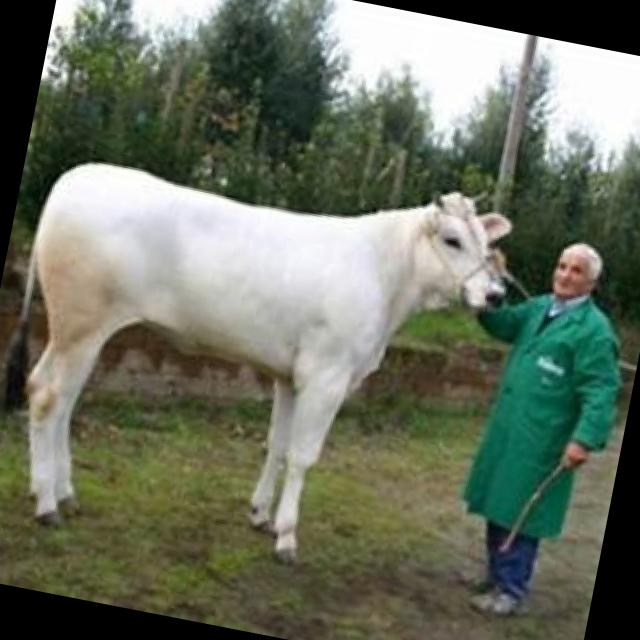cow: (0, 107, 528, 604)
